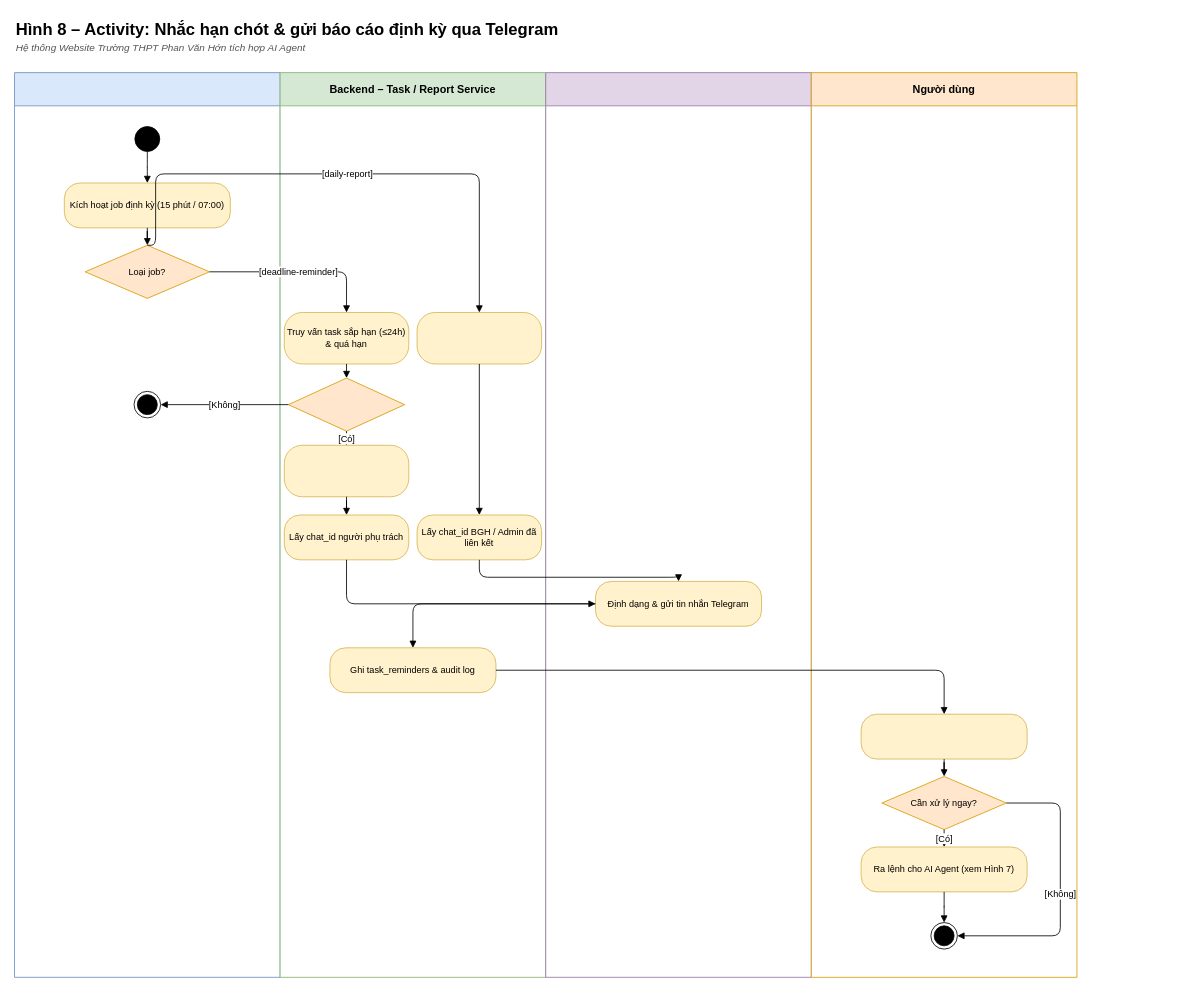
Some shapes in this 1191 by 992 pixel diagram are drawn without their labels. Each missing label, with the box of its shape:
Có task cần nhắc?: (288, 377, 405, 431)
Lọc mốc nhắc chưa gửi (24h / 1h / quá hạn): (283, 444, 409, 497)
Nhận tin nhắn trên điện thoại: (860, 713, 1027, 759)
Scheduler (Cron): (14, 72, 280, 977)
Telegram Gateway: (545, 72, 811, 977)
Tổng hợp việc hôm nay, bài sắp đăng, cảnh báo hệ thống: (416, 312, 542, 364)
